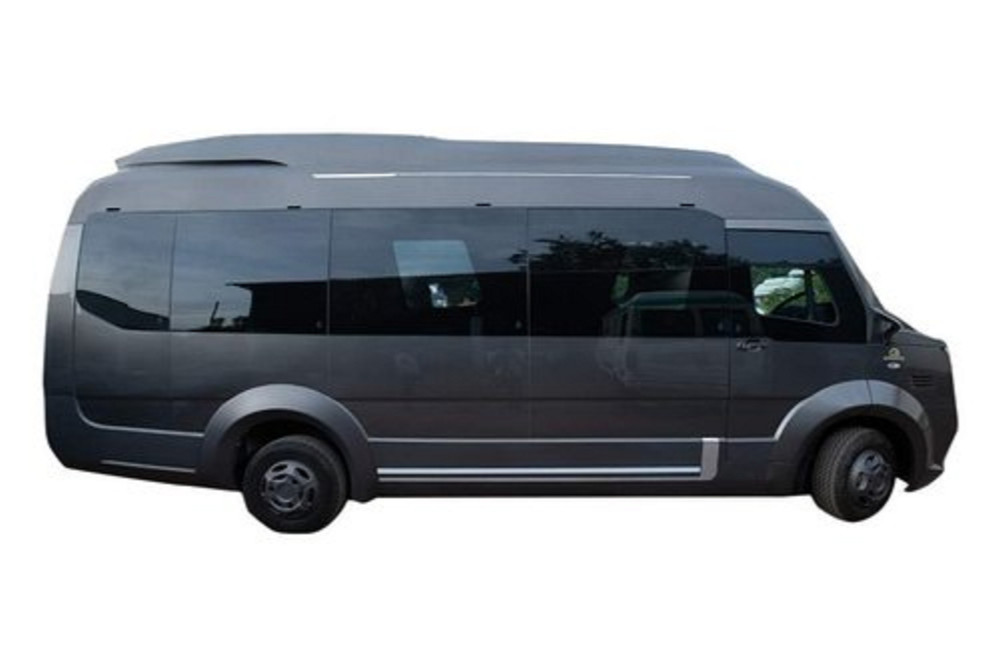van: (41, 130, 961, 537)
